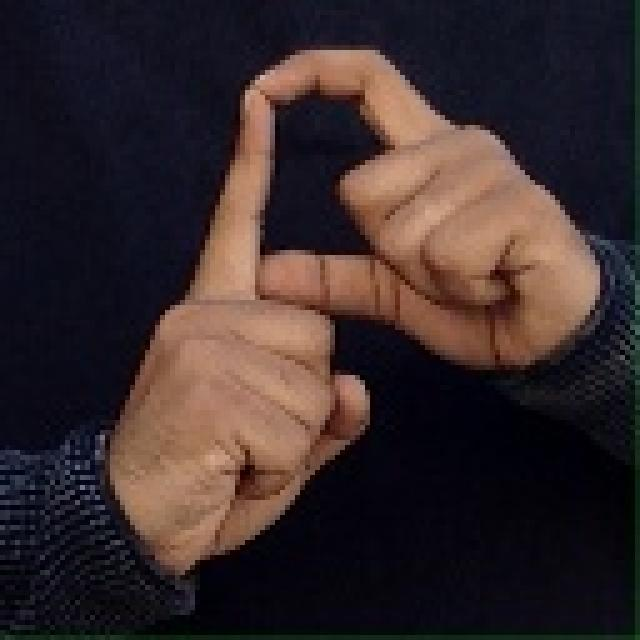Alphabet-D: (93, 41, 630, 576)
